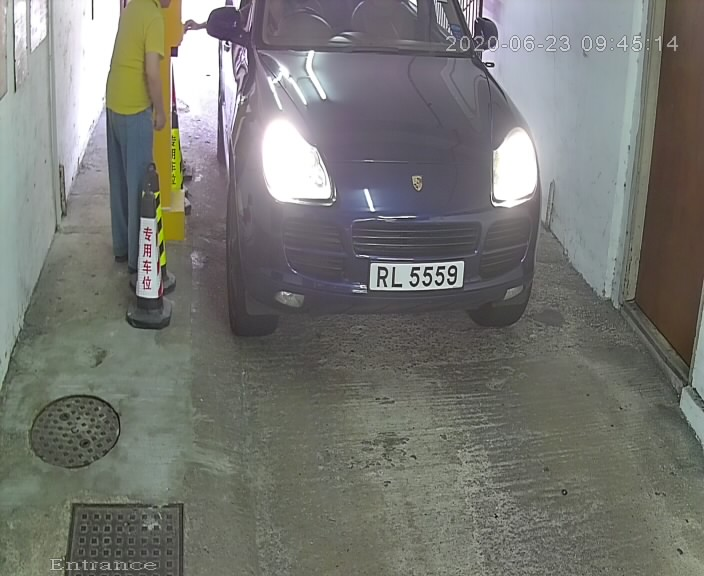privatecar: (195, 1, 554, 362)
